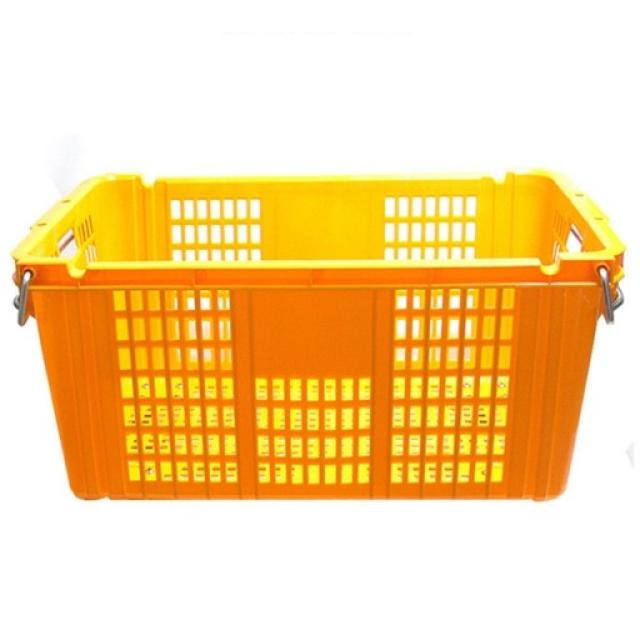basket: (13, 171, 626, 501)
